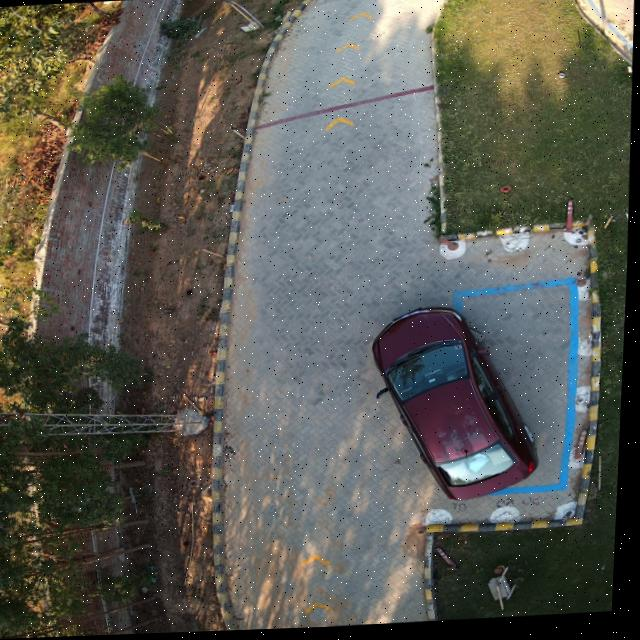car: (376, 309, 541, 502)
